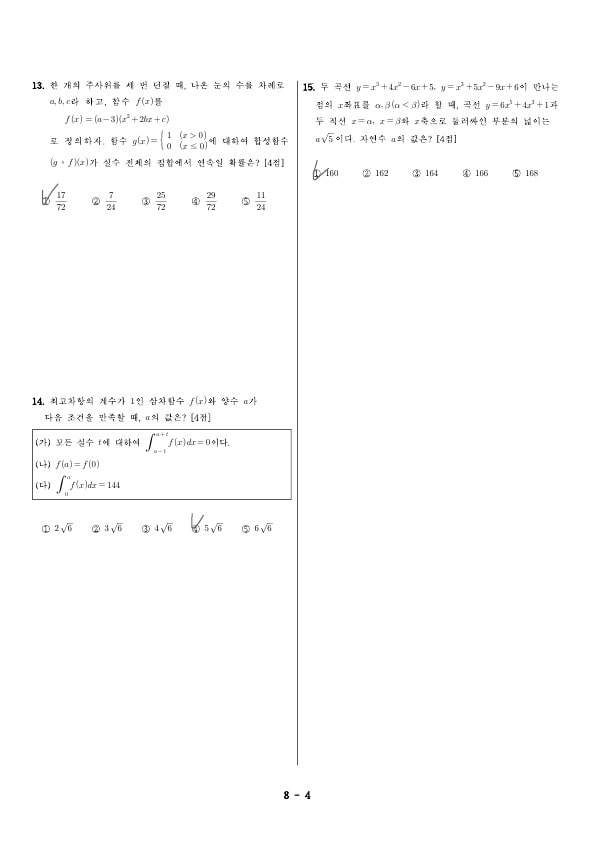question: (23, 70, 293, 228), (21, 390, 298, 543), (295, 70, 568, 191)
